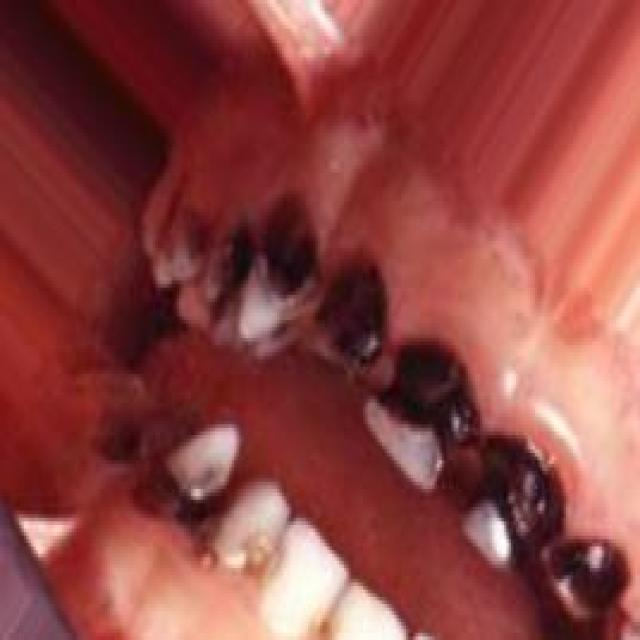caries: (378, 315, 481, 489), (115, 408, 243, 522), (473, 416, 562, 577), (546, 521, 636, 640), (310, 237, 384, 381), (244, 188, 313, 335), (177, 214, 246, 316), (189, 526, 292, 592), (237, 593, 239, 599)
